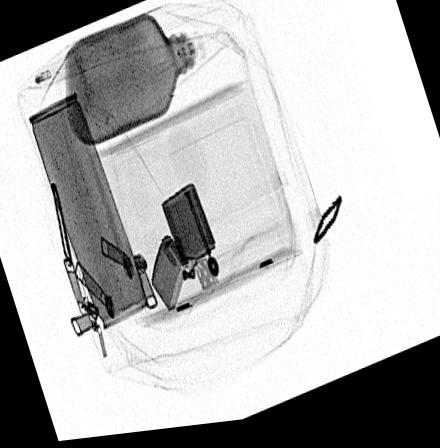Lighter: (150, 188, 221, 315)
